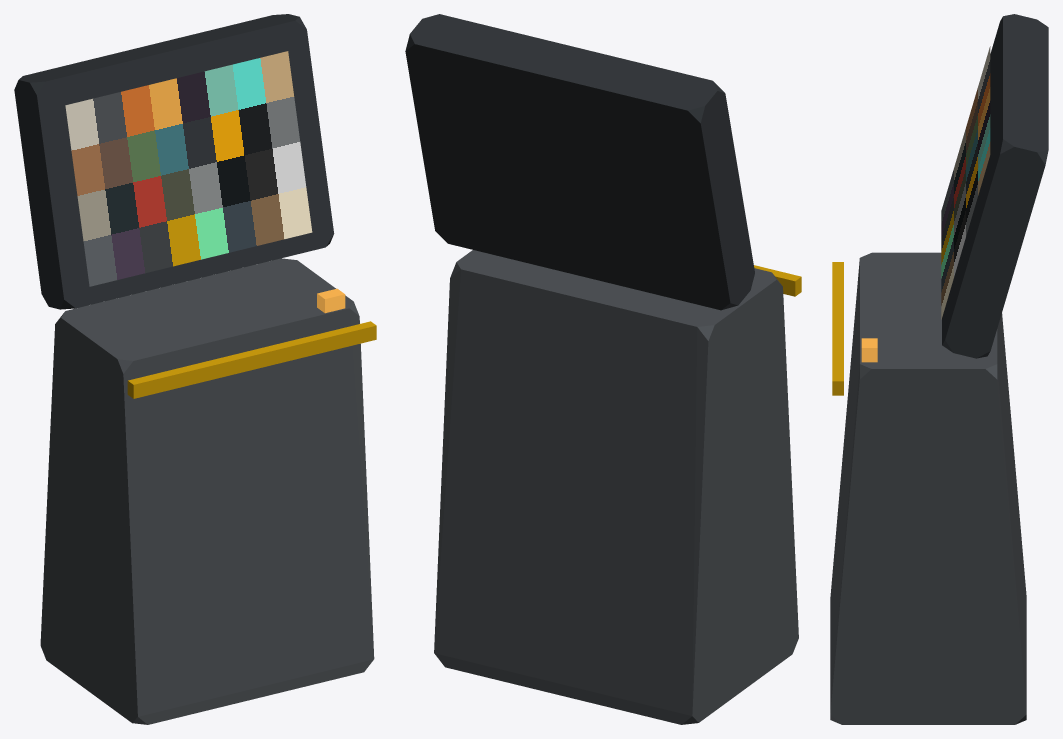
File: hum_settings_terminal.glb
3 views of the same model, side by side, from view 1: azimuth 30°, elevation 25°; view 2: azimuth 150°, elevation 25°; view 3: azimuth 270°, elevation 25° (orthographic). The views are drawn at different scales.
Parts seen in each view (by area): view 1: terminal, screen; view 2: terminal; view 3: terminal, screen.
Boxes of the visible parts, bbox=[...] form: terminal: bbox=[14, 14, 376, 724]; screen: bbox=[65, 51, 312, 286]; terminal: bbox=[405, 14, 801, 724]; terminal: bbox=[830, 14, 1048, 724]; screen: bbox=[941, 46, 990, 319].
Size of the model in its own units: 0.8 by 1.66 by 0.5556.
3 materials, 3 textured.
